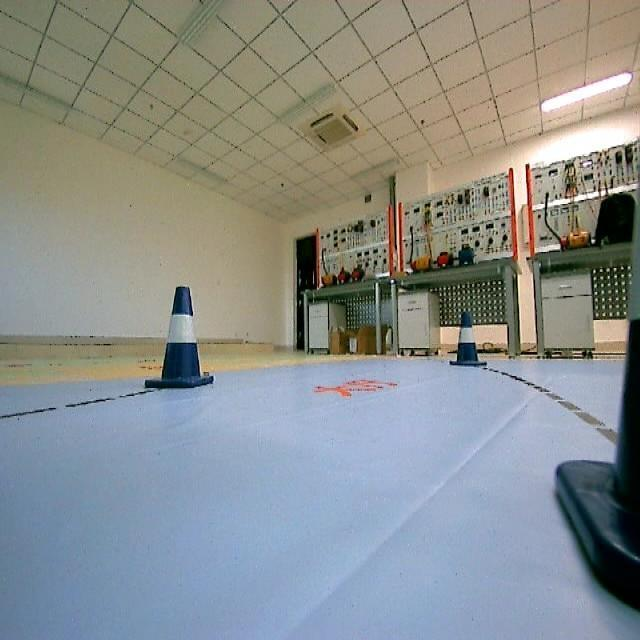obstacle: (140, 274, 212, 396), (445, 308, 495, 376)
